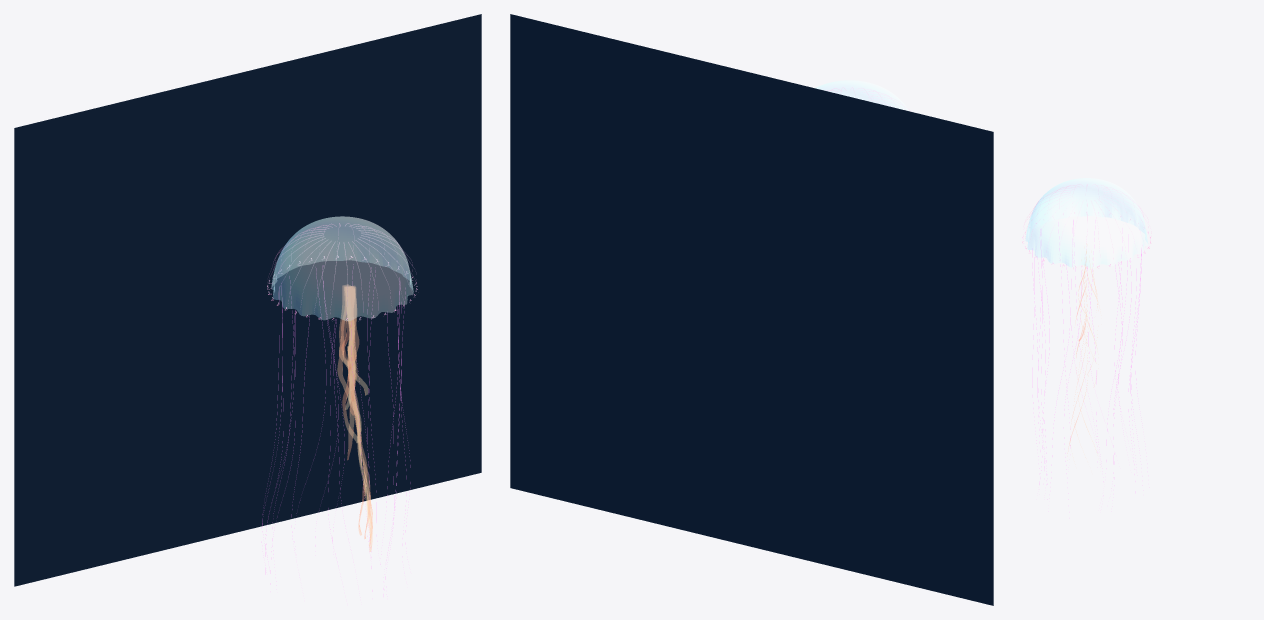
The model's file is jellyfish_candidate.glb.
3 renders of one model, left to right at view 1: azimuth 30°, elevation 25°; view 2: azimuth 150°, elevation 25°; view 3: azimuth 270°, elevation 25°, orthographic. The views are drawn at different scales.
Parts seen in each view (by area): view 1: reference_jellyfish_dark_water_backdrop, reference_jellyfish_bell, reference_jellyfish_oral_arms, reference_jellyfish_long_tentacles, reference_jellyfish_trailing_oral_tail; view 2: reference_jellyfish_dark_water_backdrop, reference_jellyfish_bell; view 3: reference_jellyfish_bell, reference_jellyfish_long_tentacles.
Boxes of the visible parts, x1,y1,x2,y2 form: reference_jellyfish_dark_water_backdrop: (14,14,481,586); reference_jellyfish_bell: (271,216,413,320); reference_jellyfish_oral_arms: (337,285,367,459); reference_jellyfish_long_tentacles: (261,281,410,596); reference_jellyfish_trailing_oral_tail: (347,346,372,551); reference_jellyfish_dark_water_backdrop: (510,14,993,605); reference_jellyfish_bell: (815,80,908,110); reference_jellyfish_bell: (1025,178,1147,267); reference_jellyfish_long_tentacles: (1032,220,1142,499).
Size of the model in its own units: 8 by 7.5 by 3.91.
